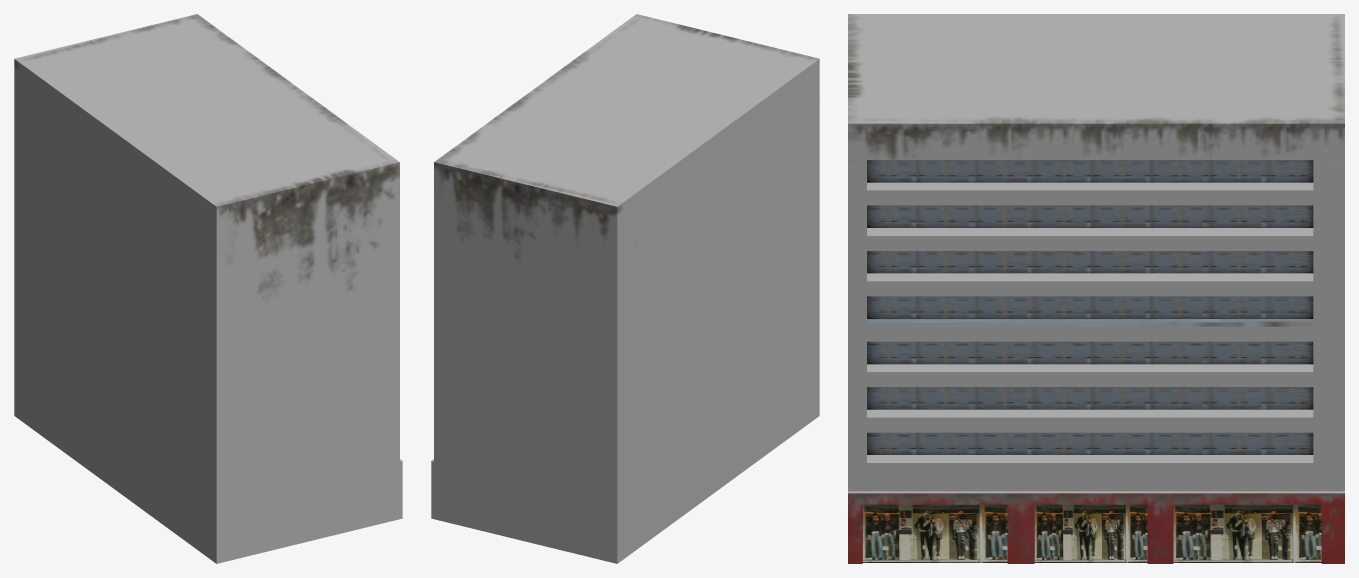
The model's file is Building_6.dae.
The picture shows the model from 3 angles, left to right: view 1: azimuth 30°, elevation 25°; view 2: azimuth 150°, elevation 25°; view 3: azimuth 270°, elevation 25°; orthographic projection. The views are drawn at different scales.
Parts seen in each view (by area): view 1: bulding6; view 2: bulding6; view 3: bulding6.
Part boxes in pixels (x1=…): bulding6: x1=14, y1=14, x2=402, y2=563; bulding6: x1=431, y1=14, x2=819, y2=563; bulding6: x1=848, y1=14, x2=1344, y2=563.
Size of the model in its own units: 22.66 by 41.53 by 42.66.
Materials: 1 (1 with a texture image).
